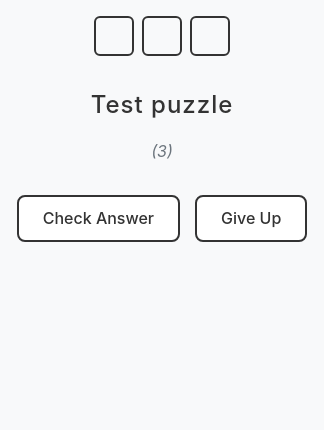
Scenario: CryptogramGame - Basic Functionality › shows correct feedback for correct answer
The image size is (324, 430).
Type "d" into the 1st field.
click(114, 36); type("d")  # box [94,16,134,56]
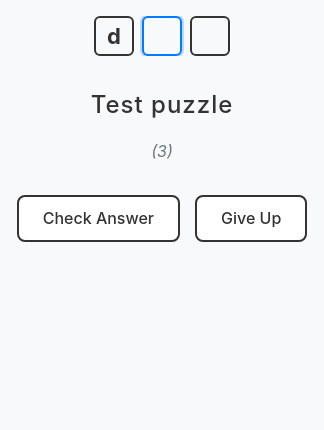
Type "o" into the 2nd field.
click(162, 36); type("o")  # box [142,16,182,56]
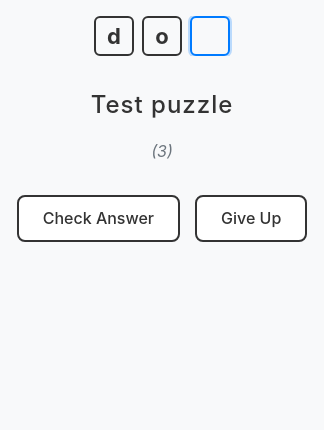
Type "g" into the 3rd field.
click(210, 36); type("g")  # box [190,16,230,56]
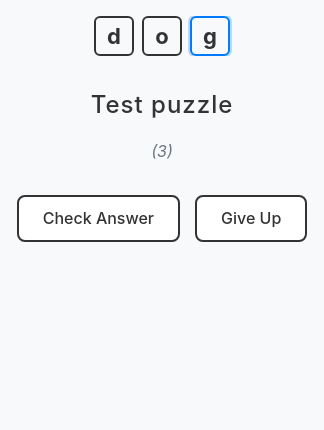
Click the button "Check Answer".
click(98, 219)  # box [17,195,180,242]
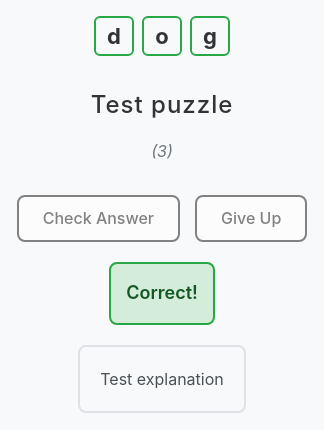
Check: the text "Correct!" is shown, box [109,262,215,325]
